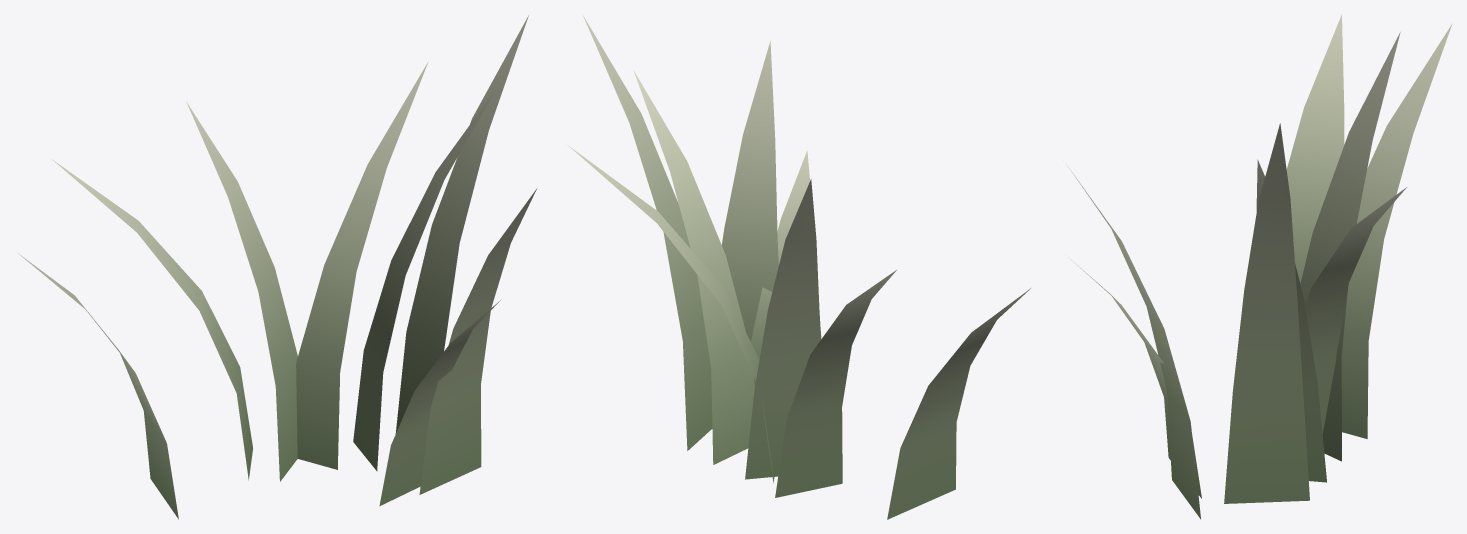
File: f_grass2.glb
3 renders of one model, left to right at view 1: azimuth 30°, elevation 25°; view 2: azimuth 150°, elevation 25°; view 3: azimuth 270°, elevation 25°, orthographic. The views are drawn at different scales.
Visible parts, largest first — view 1: grass2; view 2: grass2; view 3: grass2.
Part boxes in pixels (x1,y1,x2,y2): grass2: [18, 15, 537, 519]; grass2: [566, 15, 1030, 519]; grass2: [1066, 14, 1452, 519].
Size of the model in its own units: 0.6484 by 0.5165 by 0.4144.
